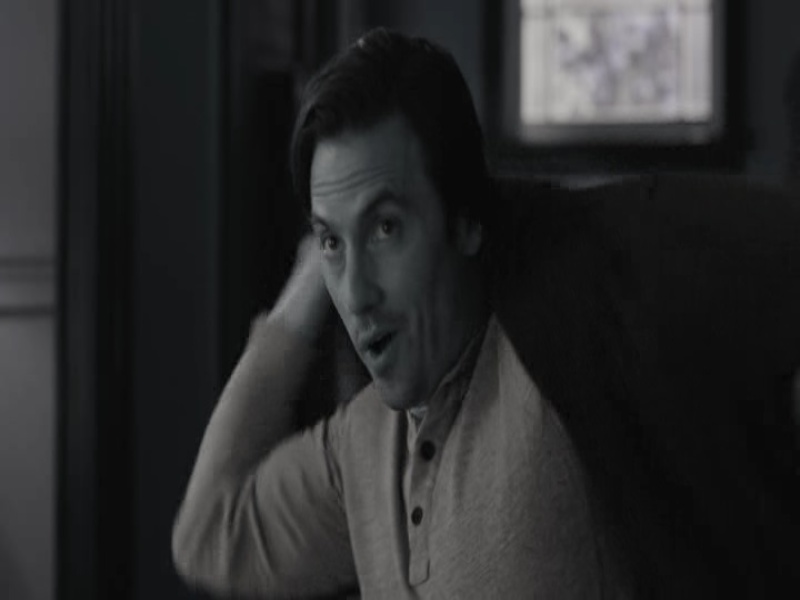TsisyArotava: (280, 114, 483, 430)
